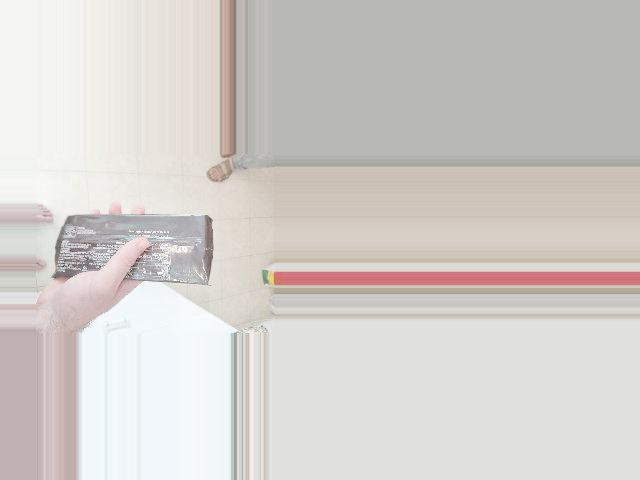chocolate: (54, 213, 218, 284)
